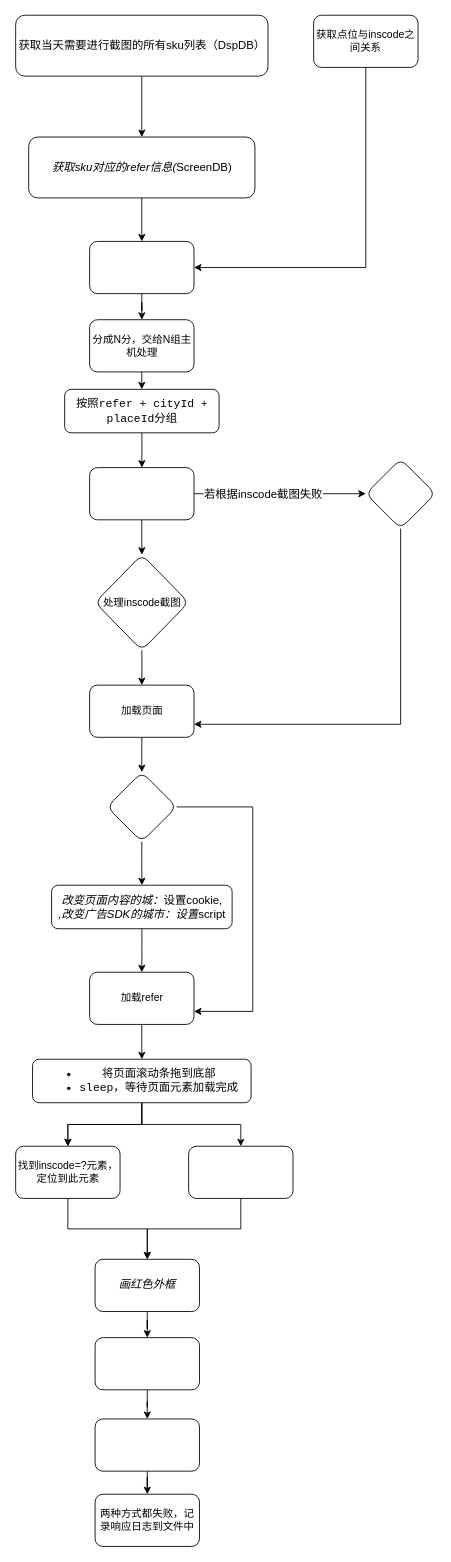
Some shapes in this 451 by 1562 pixel diagram are drawn without their labels. The shapes that lost their labels are listed below. From the top down, each one's centre as x and y in pixels, then its label:
(141,267): 获取需要截图的数据对象
(141,493): 使用 selenium 处理截图
(400,493): 处理a标签截图
(141,806): 如果cityCode>0
(240,1171): 找到a标签，遍历找到a标签内包含点位id=？的（主要是找曝光链接）
(146,1363): 截图，将文件保存到对应目录
(146,1444): 去除红色外框
